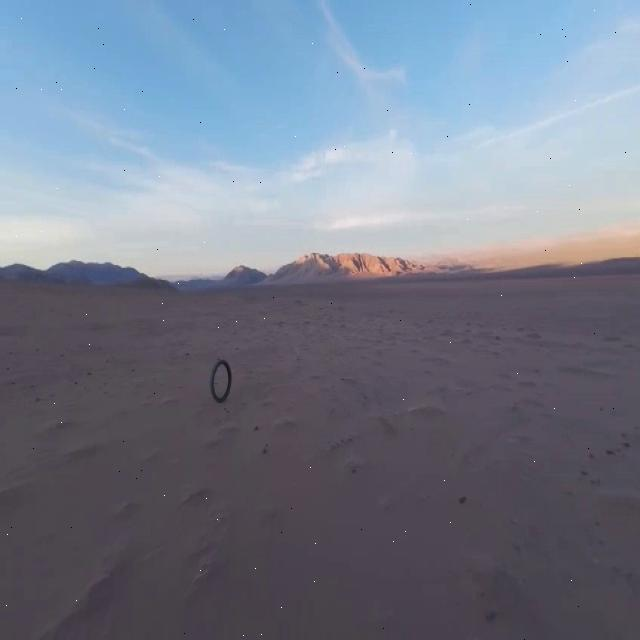Tire: (211, 359, 232, 402)
